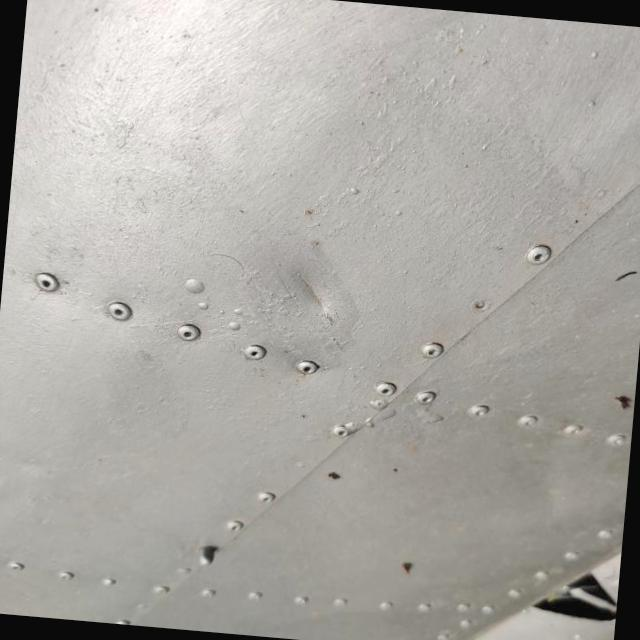dent: (241, 228, 368, 354)
